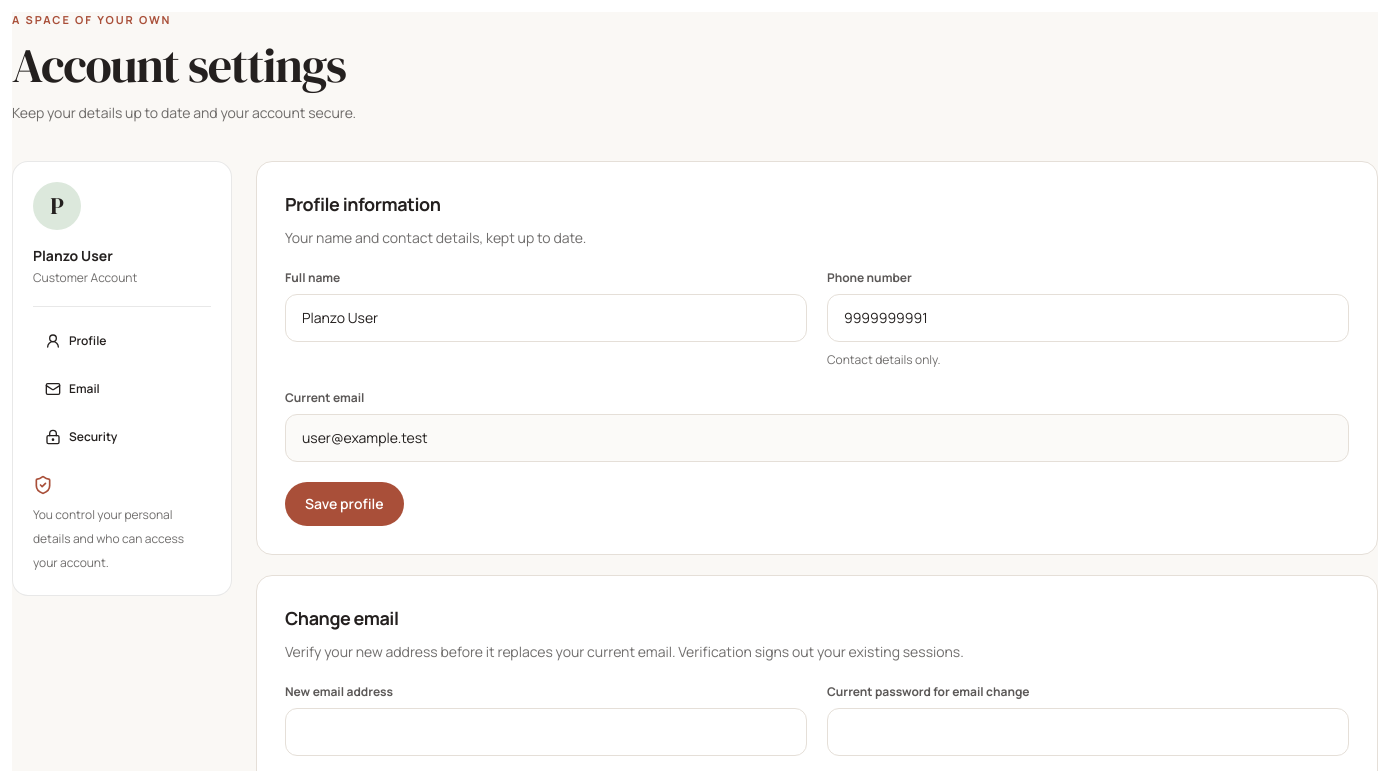
Scenario: account settings › rejects a name shorter than two characters
Replace the text in the field labelled "Full name" with "X": [546, 318] box x1=285 y1=294 x2=807 y2=342
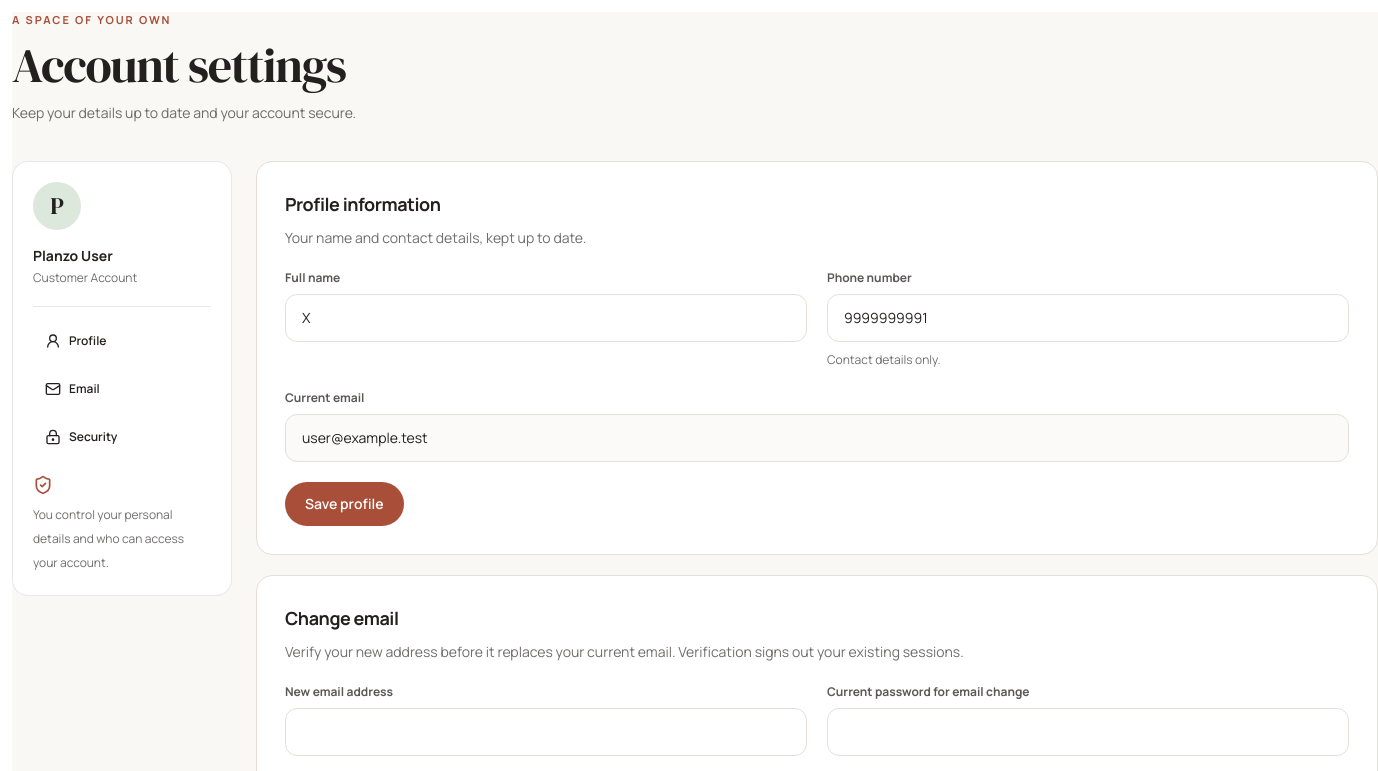
Click the button "Save profile": [344, 504] box x1=285 y1=482 x2=404 y2=526
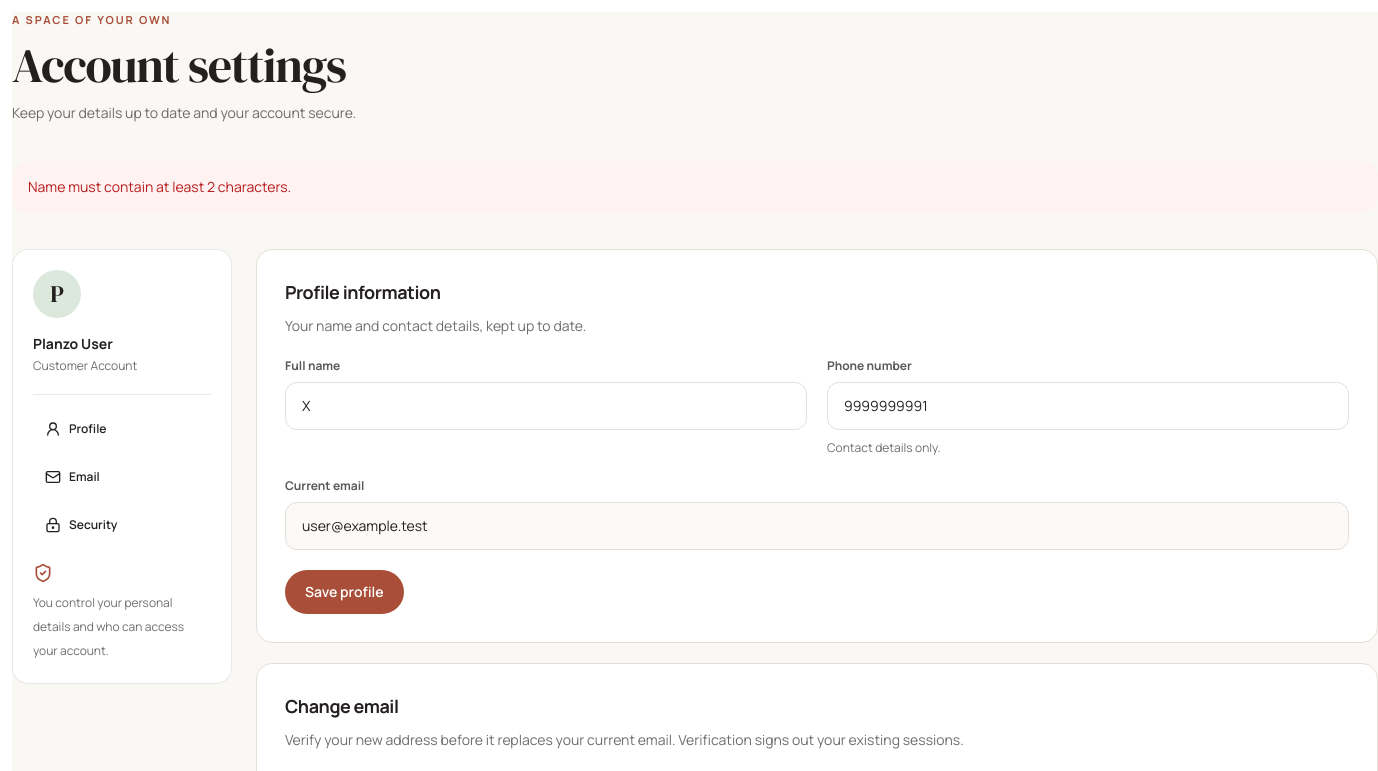
Expected: the message reads "Name must contain at least 2 characters.", x1=28 y1=176 x2=291 y2=196
